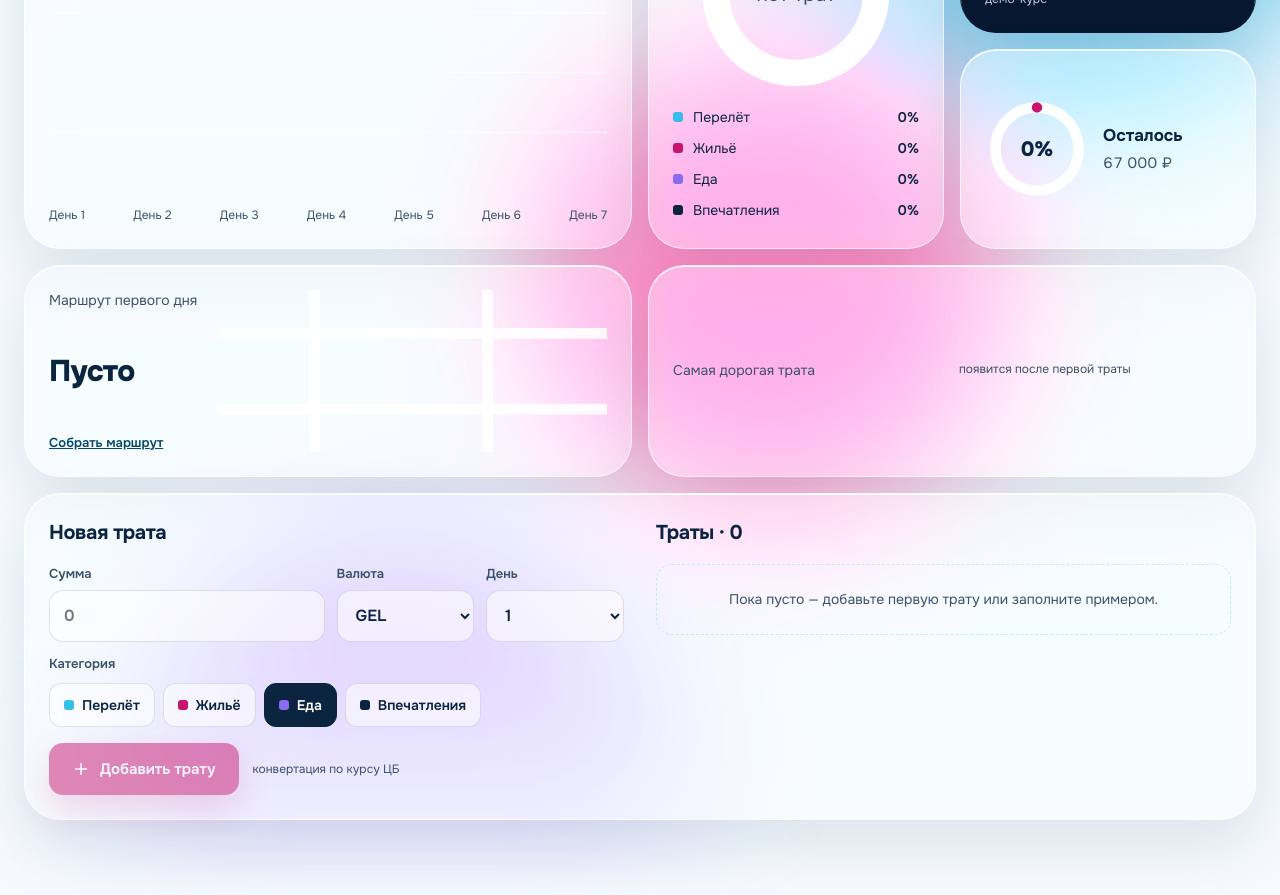
Test: Budget › adds an expense in local currency converted by the rate
The image size is (1280, 895).
(page scrolled)
Type "100" into the field labelled "Сумма" at (187,616), box [49, 590, 324, 642]
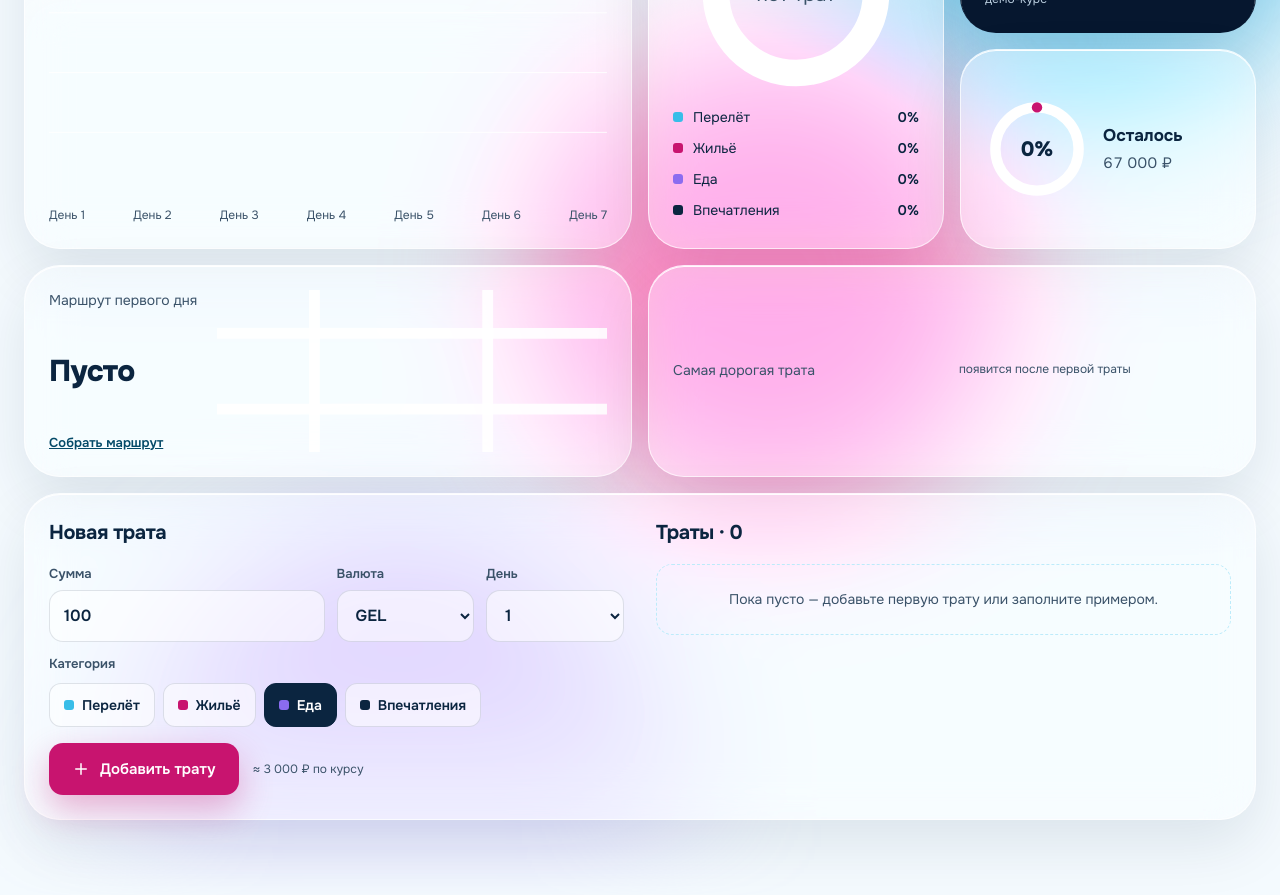
Click the radio button labelled "Впечатления" at (413,705), box [345, 683, 481, 727]
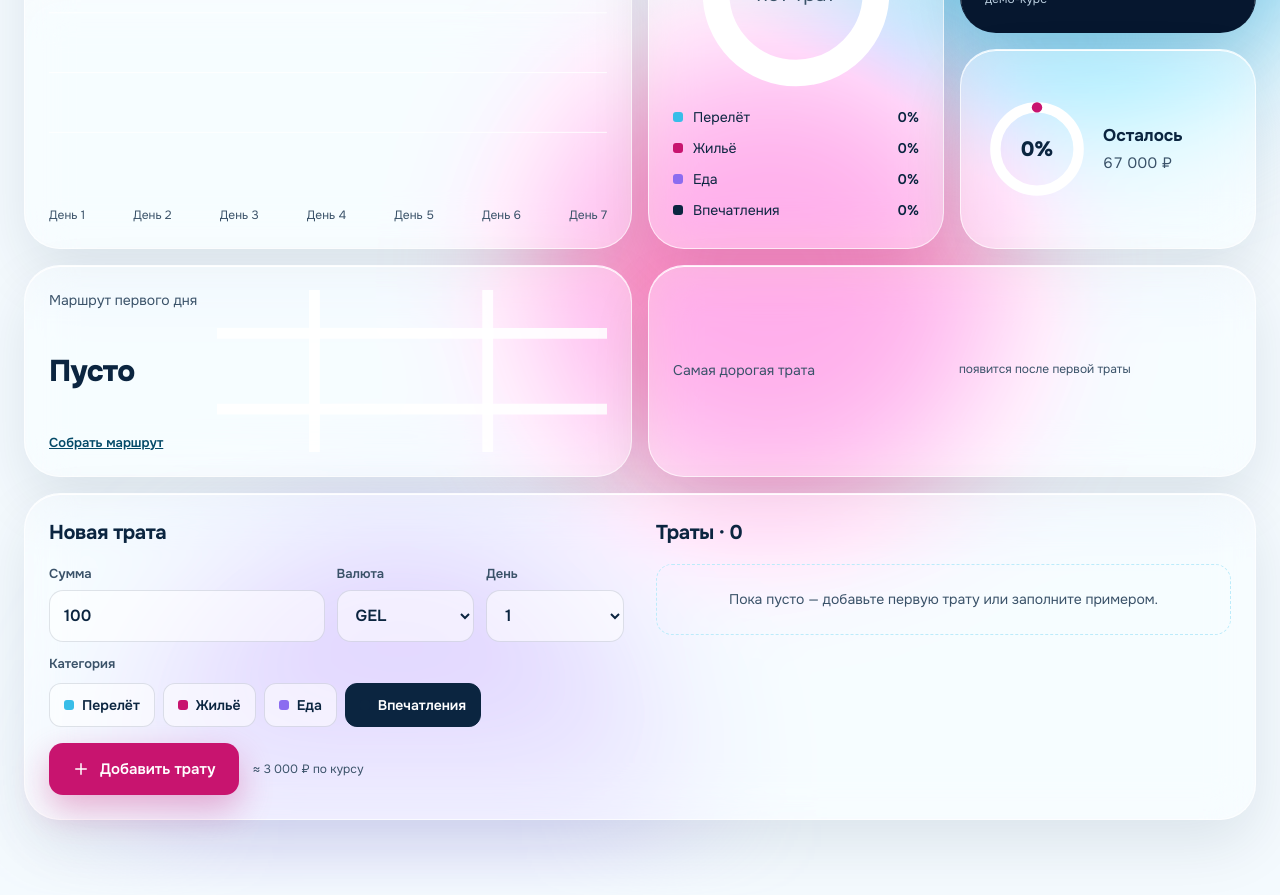
Select "2" in the dropdown labelled "День" at (555,616), box [486, 590, 624, 642]
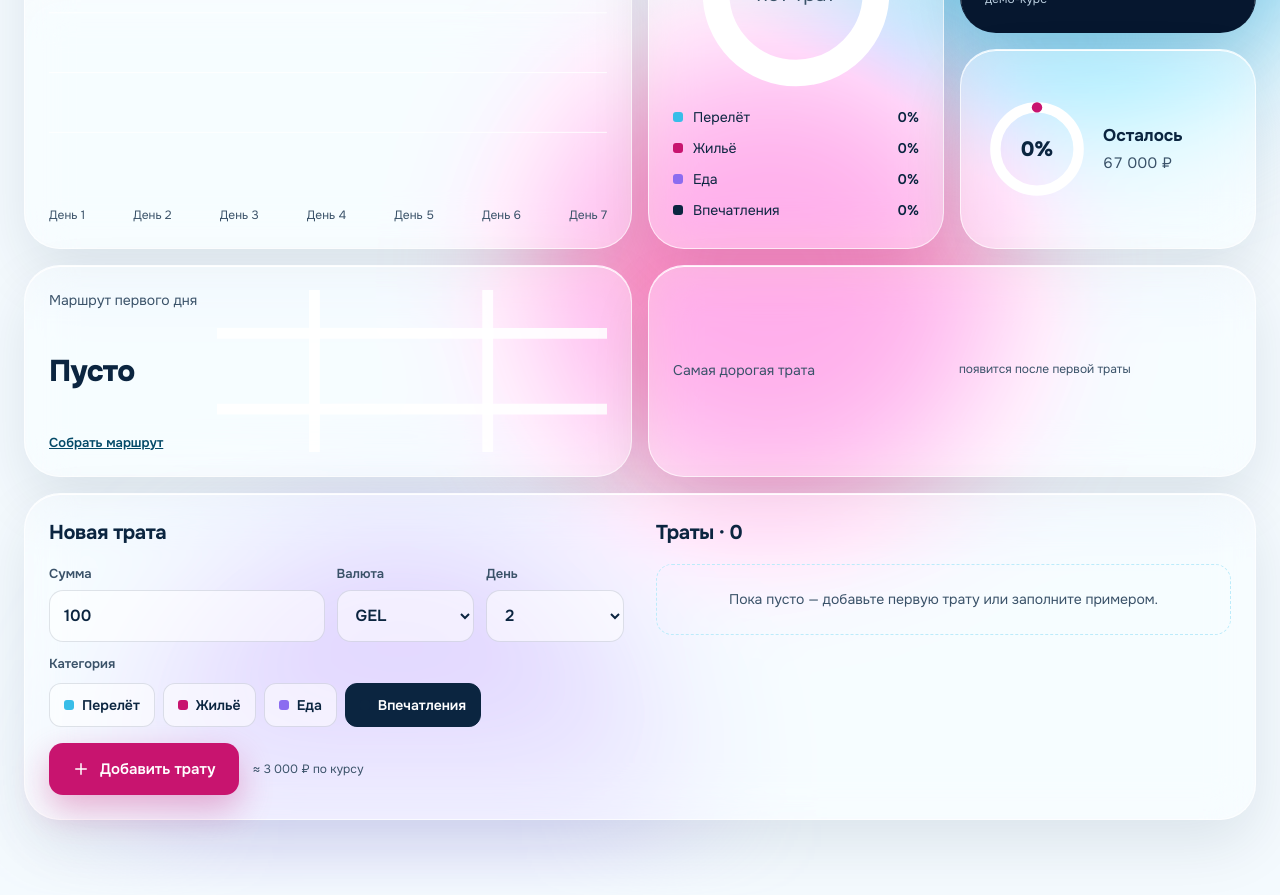
Expected: the text "≈ 3 000 ₽ по курсу" is shown, [252, 760, 364, 778]
Click the button "Добавить трату" at (144,769), box [49, 743, 238, 795]
(page scrolled)
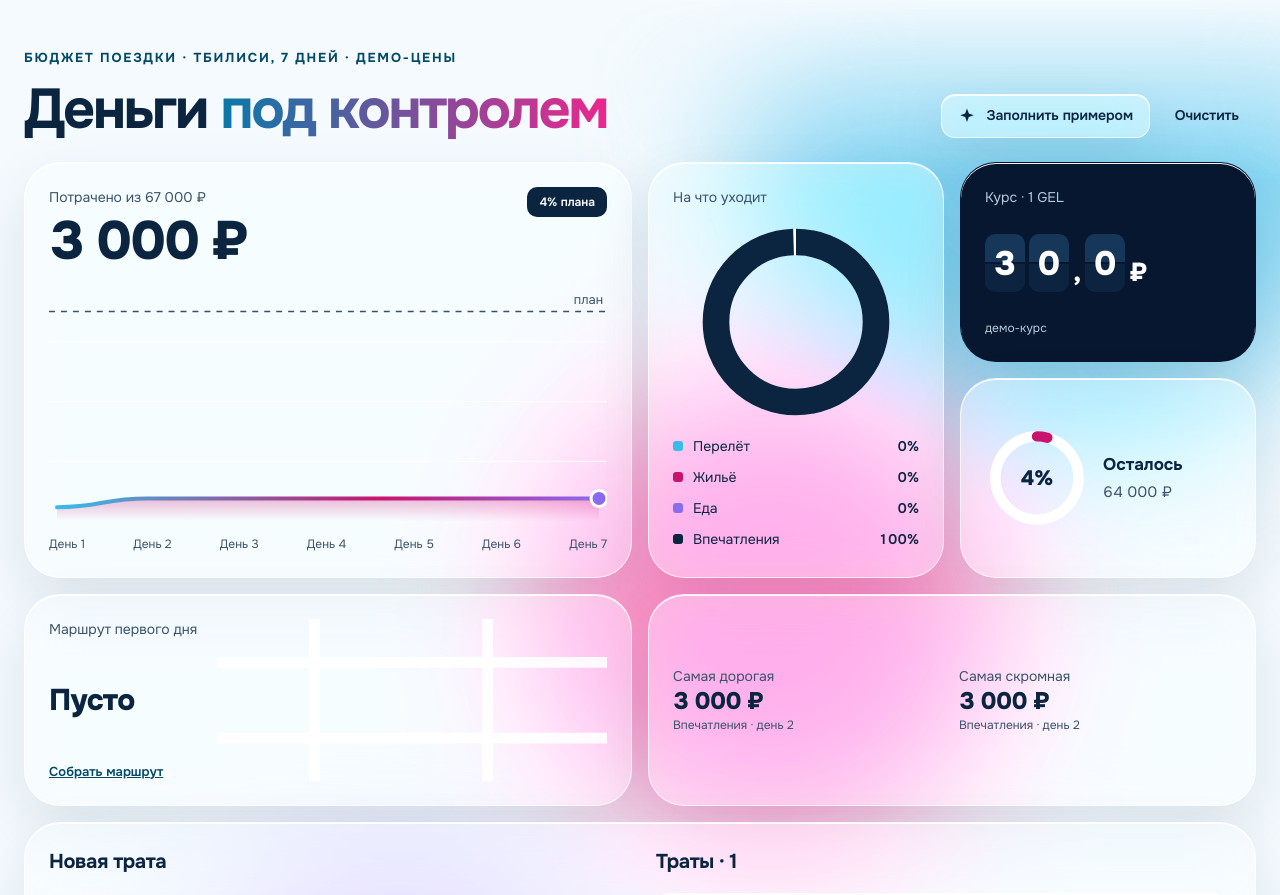
Expected: the picture named "впечатления 100%" is shown, [696, 222, 896, 422]
